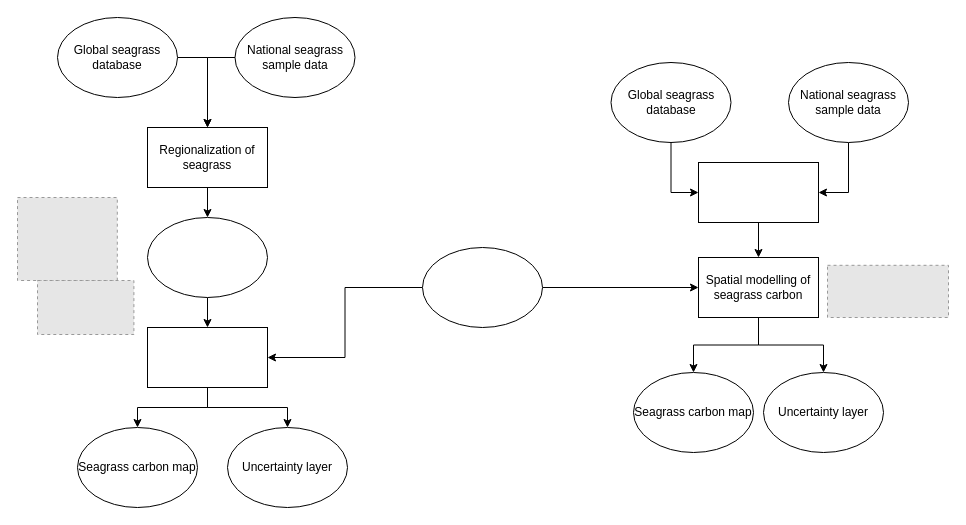
The diagram is 966 pixels wide and 525 high, and some of its shapes have lost their labels. Grey dashed boxes stand in for pictures. The centre of each missing label's shape, as x and y in pixels:
"EO data" belongs at point (482, 287).
"Parameterization and model extrapolation" belongs at point (207, 357).
"Regional data of carbon density and secondary data" belongs at point (207, 257).
"Representativity analysis" belongs at point (758, 192).
